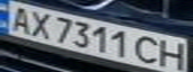1: (109, 28, 133, 60), (87, 24, 112, 53)
3: (69, 19, 93, 49)
7: (48, 15, 75, 45)
A: (3, 3, 36, 34)
C: (133, 34, 163, 65)
H: (157, 38, 190, 71)
X: (24, 9, 54, 39)
